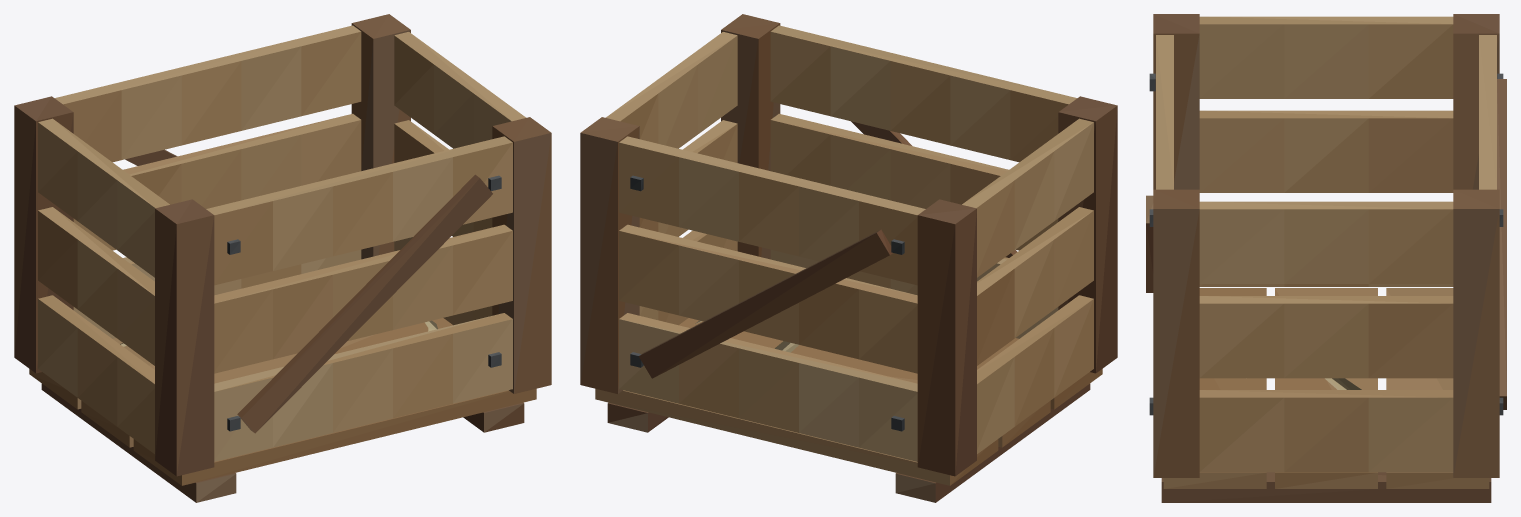
Rendered from crate-open.clunk-optimized.glb.
The picture shows the model from 3 angles, left to right: view 1: azimuth 30°, elevation 25°; view 2: azimuth 150°, elevation 25°; view 3: azimuth 270°, elevation 25°; orthographic projection. The views are drawn at different scales.
Visible parts, largest first — view 1: crate_body, hardware; view 2: crate_body, hardware; view 3: crate_body, hardware.
Boxes of the visible parts, x1,y1,x2,y2 form: crate_body: (14, 14, 551, 502); hardware: (227, 175, 501, 431); crate_body: (580, 14, 1117, 502); hardware: (630, 175, 904, 431); crate_body: (1146, 14, 1506, 502); hardware: (1149, 73, 1503, 415).
Bounding box in the file's own units: 0.56 × 0.41 × 0.438.
